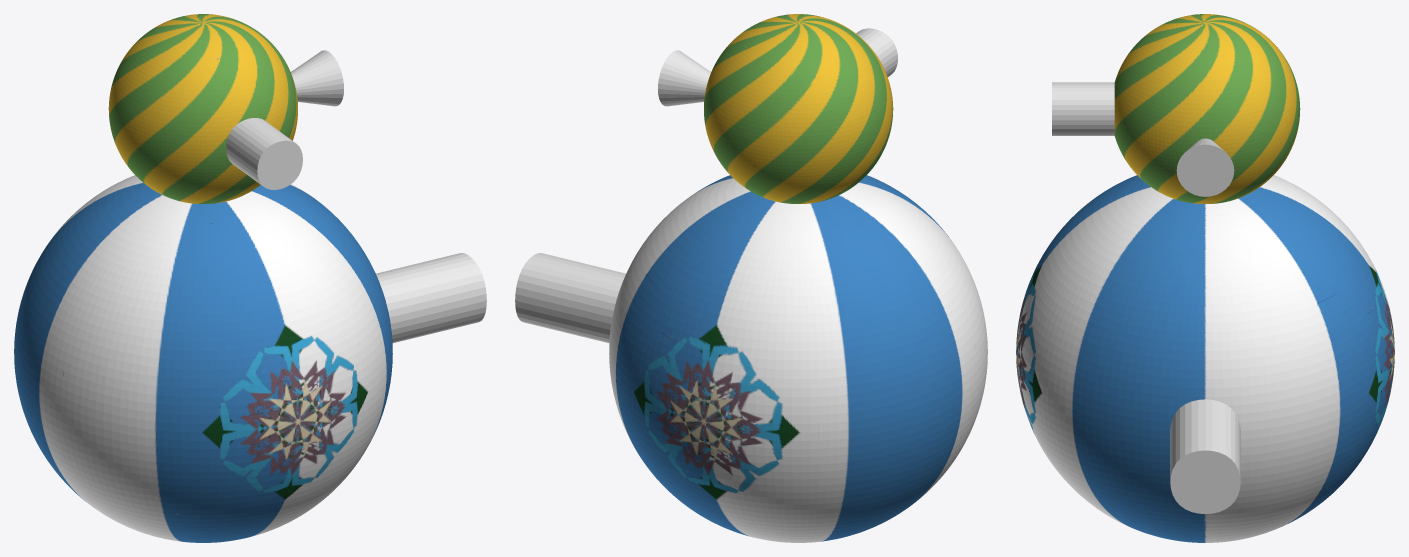
File: BOD0_BMC2_BCC8_BPT2_FRC7_HEA0_HMC6_HCC7_HPT3_ELT0_ERT3_ELL0_ERL1_AP2_AAL0_AAR2_BEK1.fbx
The picture shows the model from 3 angles, left to right: view 1: azimuth 30°, elevation 25°; view 2: azimuth 150°, elevation 25°; view 3: azimuth 270°, elevation 25°; orthographic projection.
Parts seen in each view (by area): view 1: Body, Arm, Beak, Ear; view 2: Body, Arm, Ear, Beak; view 3: Body, Arm, Beak, Ear.
Part boxes in pixels (x1,y1,x2,y2): Body: [14, 14, 392, 542]; Arm: [376, 253, 486, 342]; Beak: [226, 118, 302, 189]; Ear: [291, 50, 343, 106]; Body: [609, 14, 987, 542]; Arm: [515, 253, 625, 342]; Ear: [658, 50, 710, 106]; Beak: [856, 28, 897, 76]; Body: [1016, 14, 1394, 542]; Arm: [1170, 399, 1240, 514]; Beak: [1052, 82, 1114, 135]; Ear: [1176, 138, 1234, 196].
Bounding box in the file's own units: 64.68 × 72.41 × 49.36.
1 material, 1 textured.
